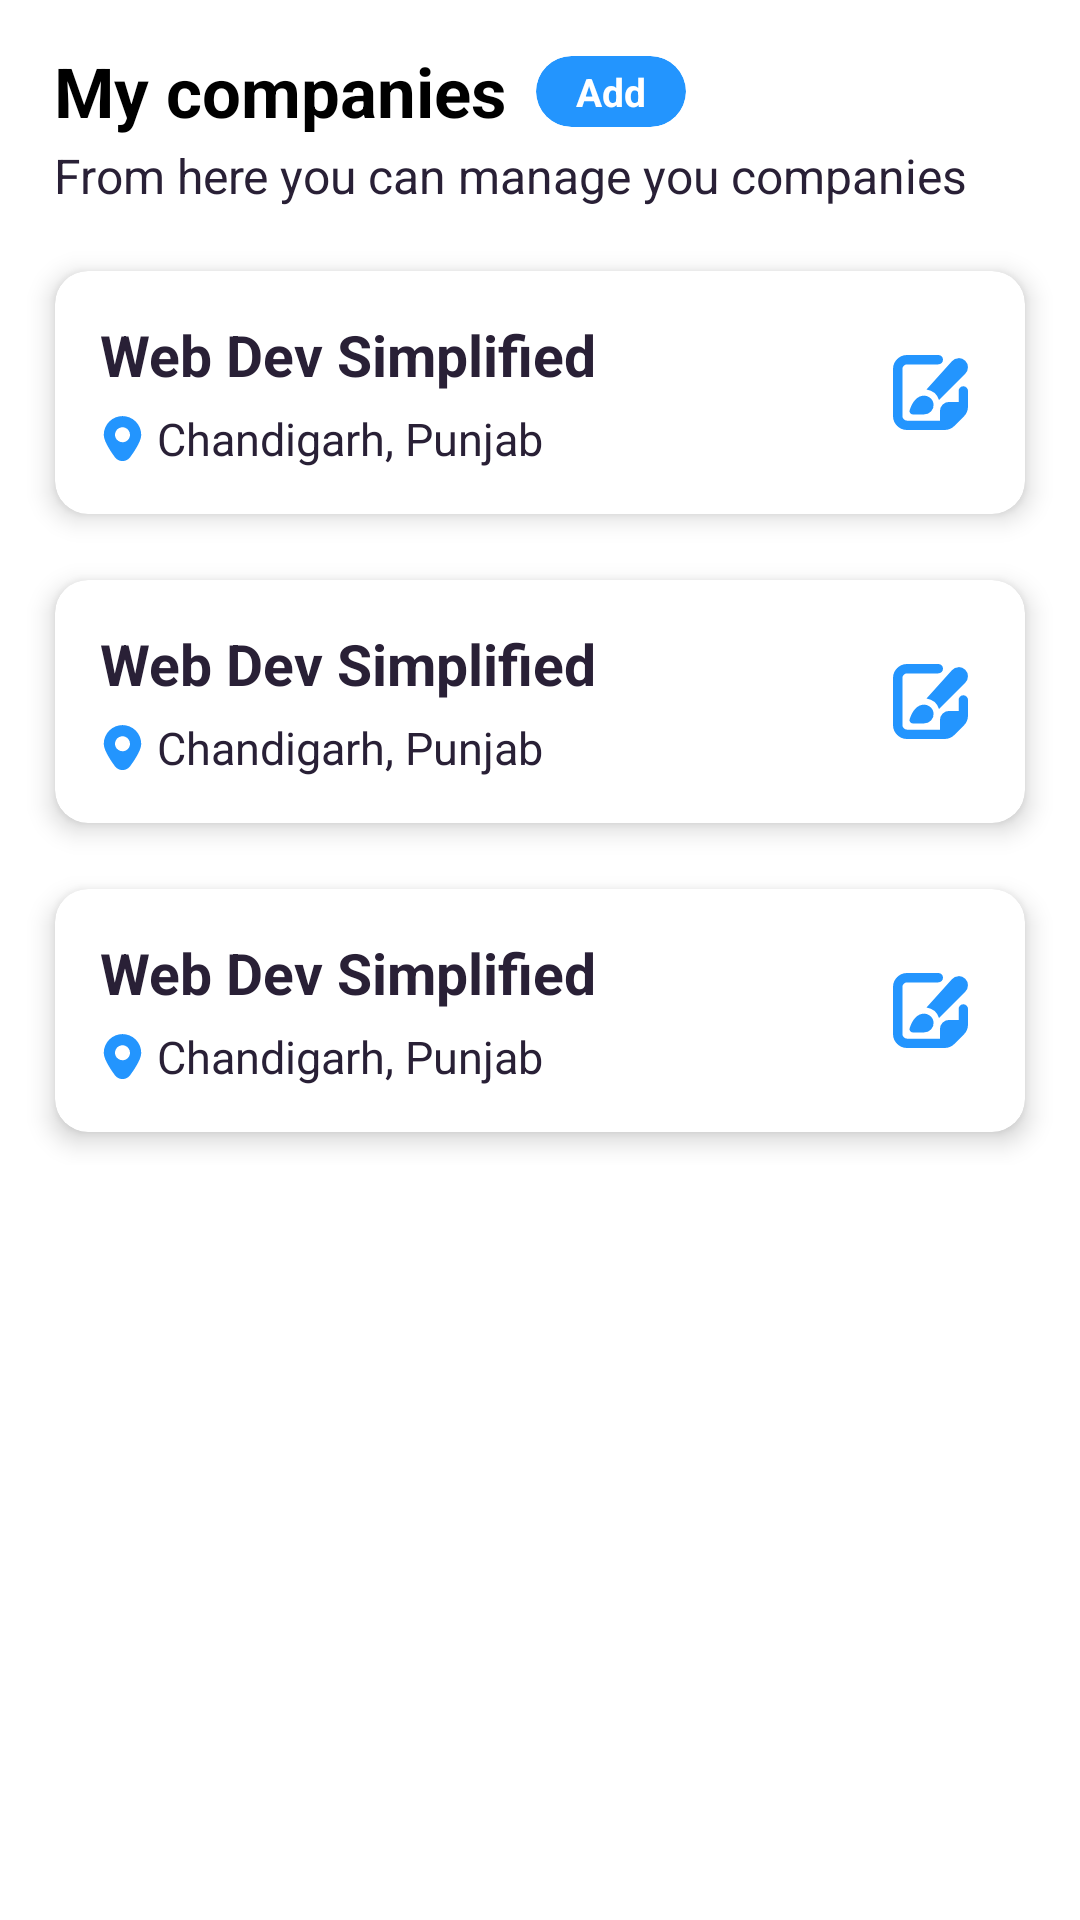

Named icons in this screenshot (1080×1920) and their bounding boxes, (x1, y1, x2, y2):
edit: (893, 355, 968, 430), (893, 664, 968, 739), (893, 973, 968, 1048)
location: (103, 416, 142, 461), (103, 725, 142, 770), (103, 1034, 142, 1079)
